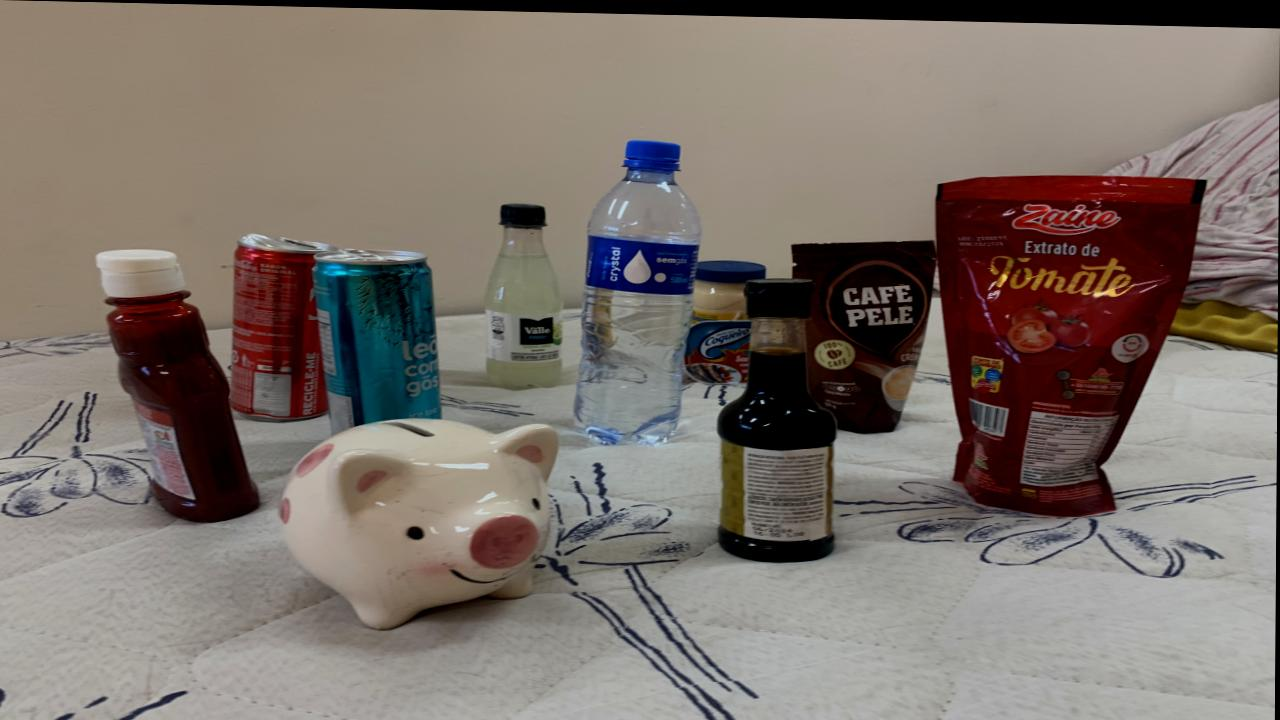Coffee-Pantry_Items: (791, 236, 936, 430)
Coke-Drinks: (230, 233, 331, 420)
English_Sauce-Pantry_Items: (718, 276, 838, 559)
Ketchup-Pantry_Items: (96, 249, 260, 521)
Mayonnaise-Pantry_Items: (693, 256, 766, 320)
Pig_Safe-Miscellaneous: (280, 416, 560, 627)
Soda-Drinks: (486, 200, 563, 388)
Tea-Drinks: (313, 248, 443, 433)
Tomato_Sauce-Pantry_Items: (939, 172, 1207, 512)
Tuna_Can-Pantry_Items: (685, 316, 751, 380)
Water_Bottle-Drinks: (575, 139, 701, 442)
